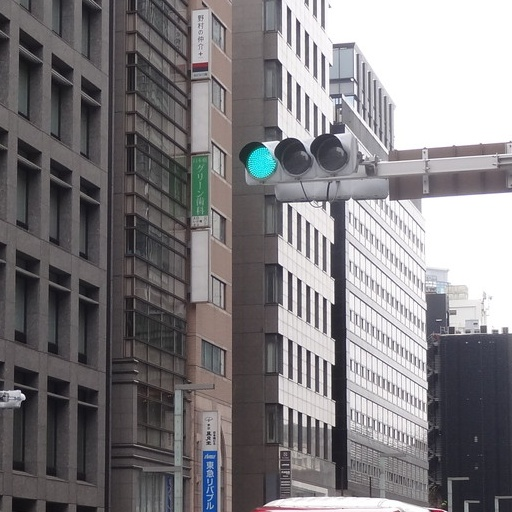Traffic_Signal_Blue: (238, 132, 359, 180)
